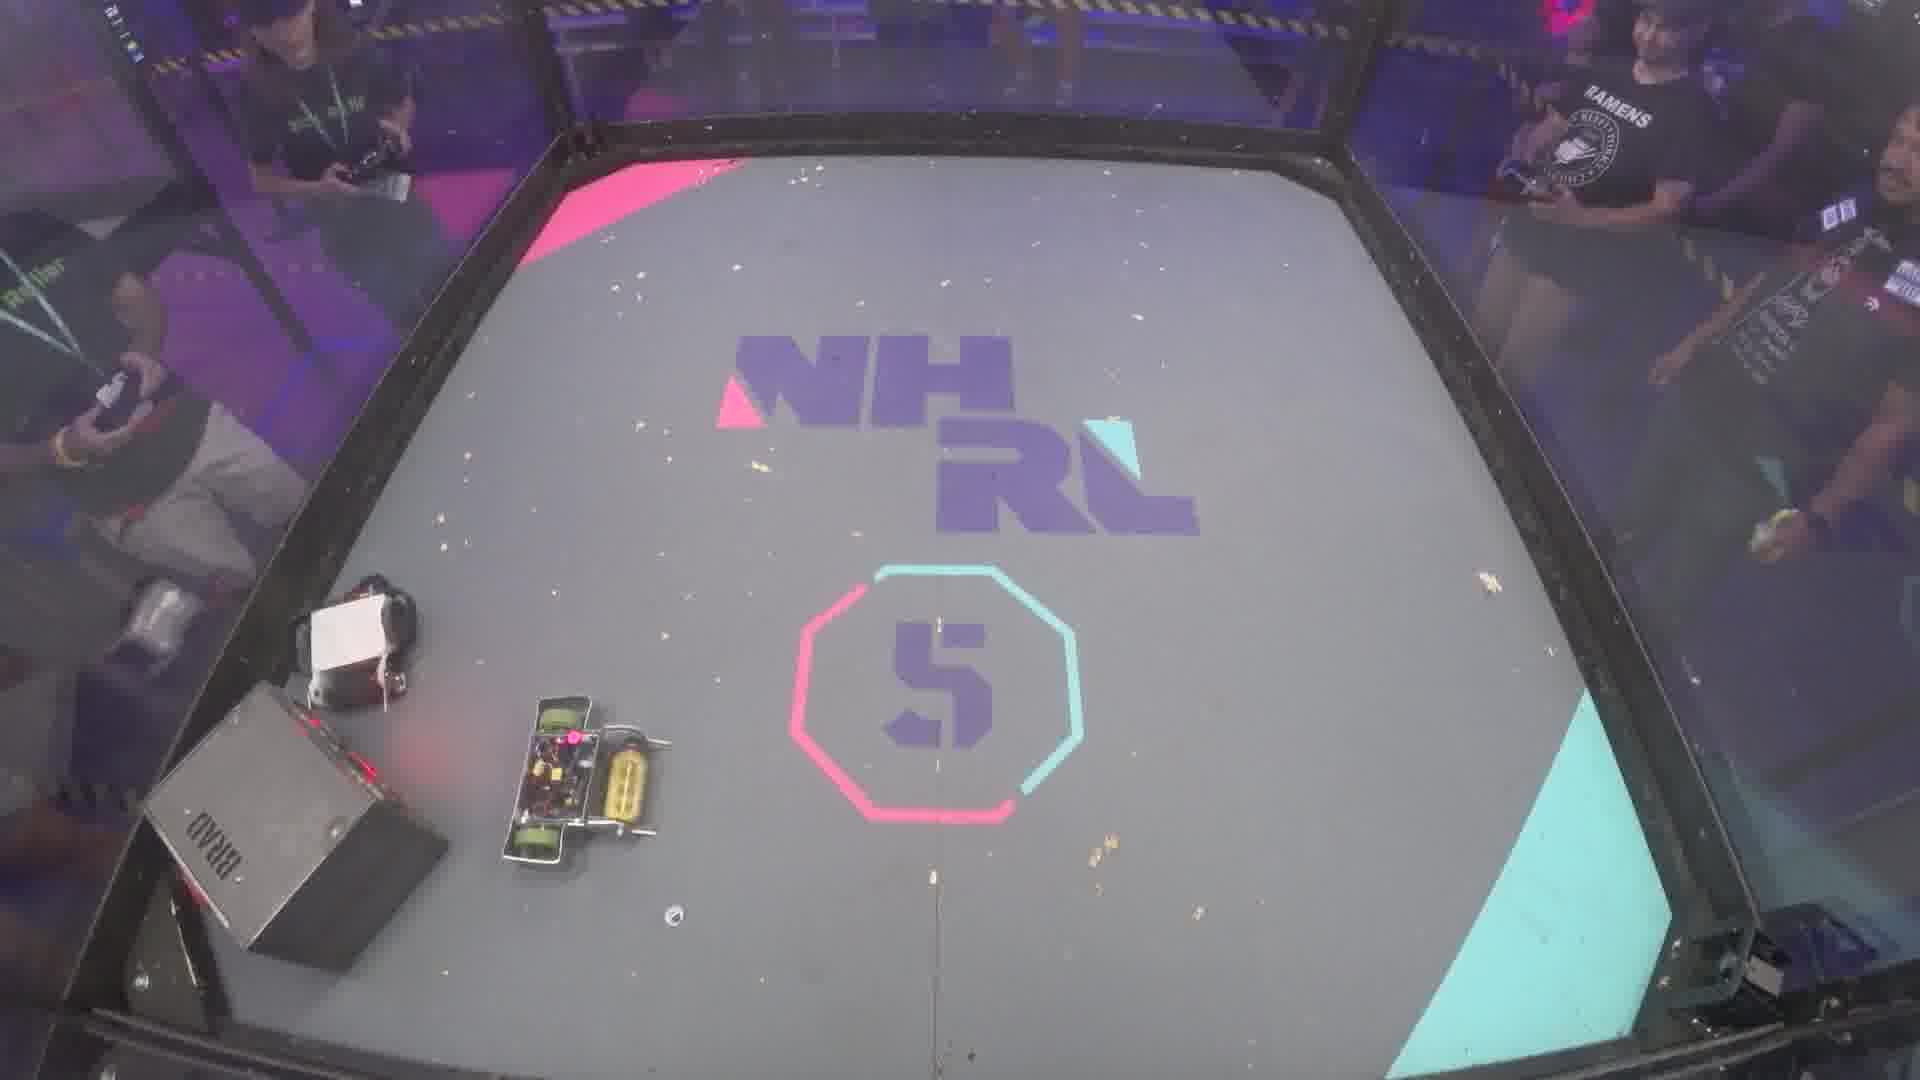combatbot: (501, 699, 646, 872), (295, 574, 422, 712)
housebot: (142, 683, 452, 980)
